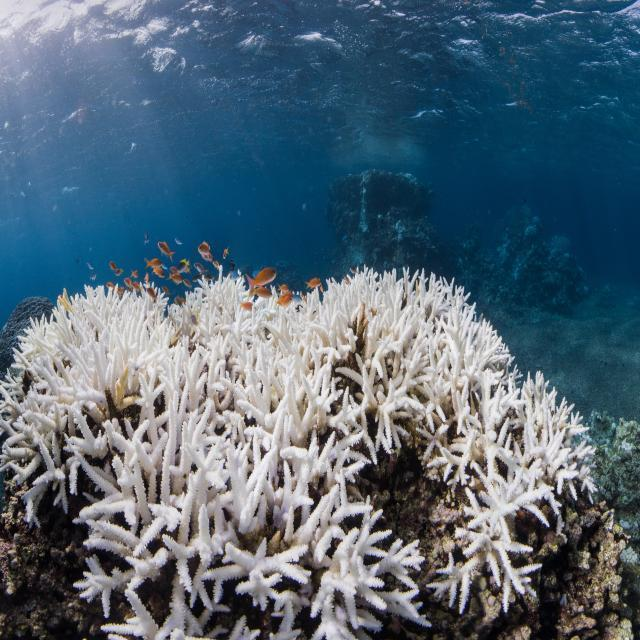Bleached Coral: (19, 208, 590, 616)
Dead Coral: (3, 513, 74, 640)
